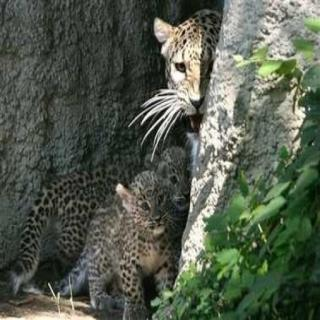Leopard: (72, 176, 174, 315), (132, 12, 228, 136), (139, 143, 190, 221)
